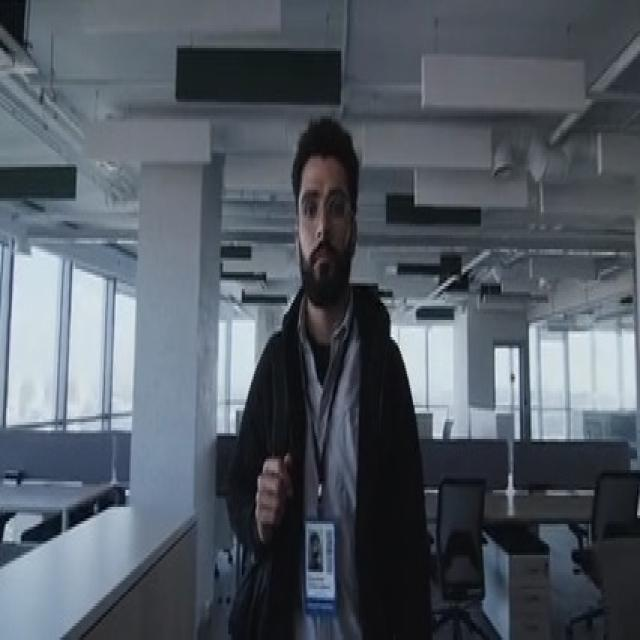Jacket_Wearer: (227, 266, 428, 640)
Person: (224, 105, 427, 640)
